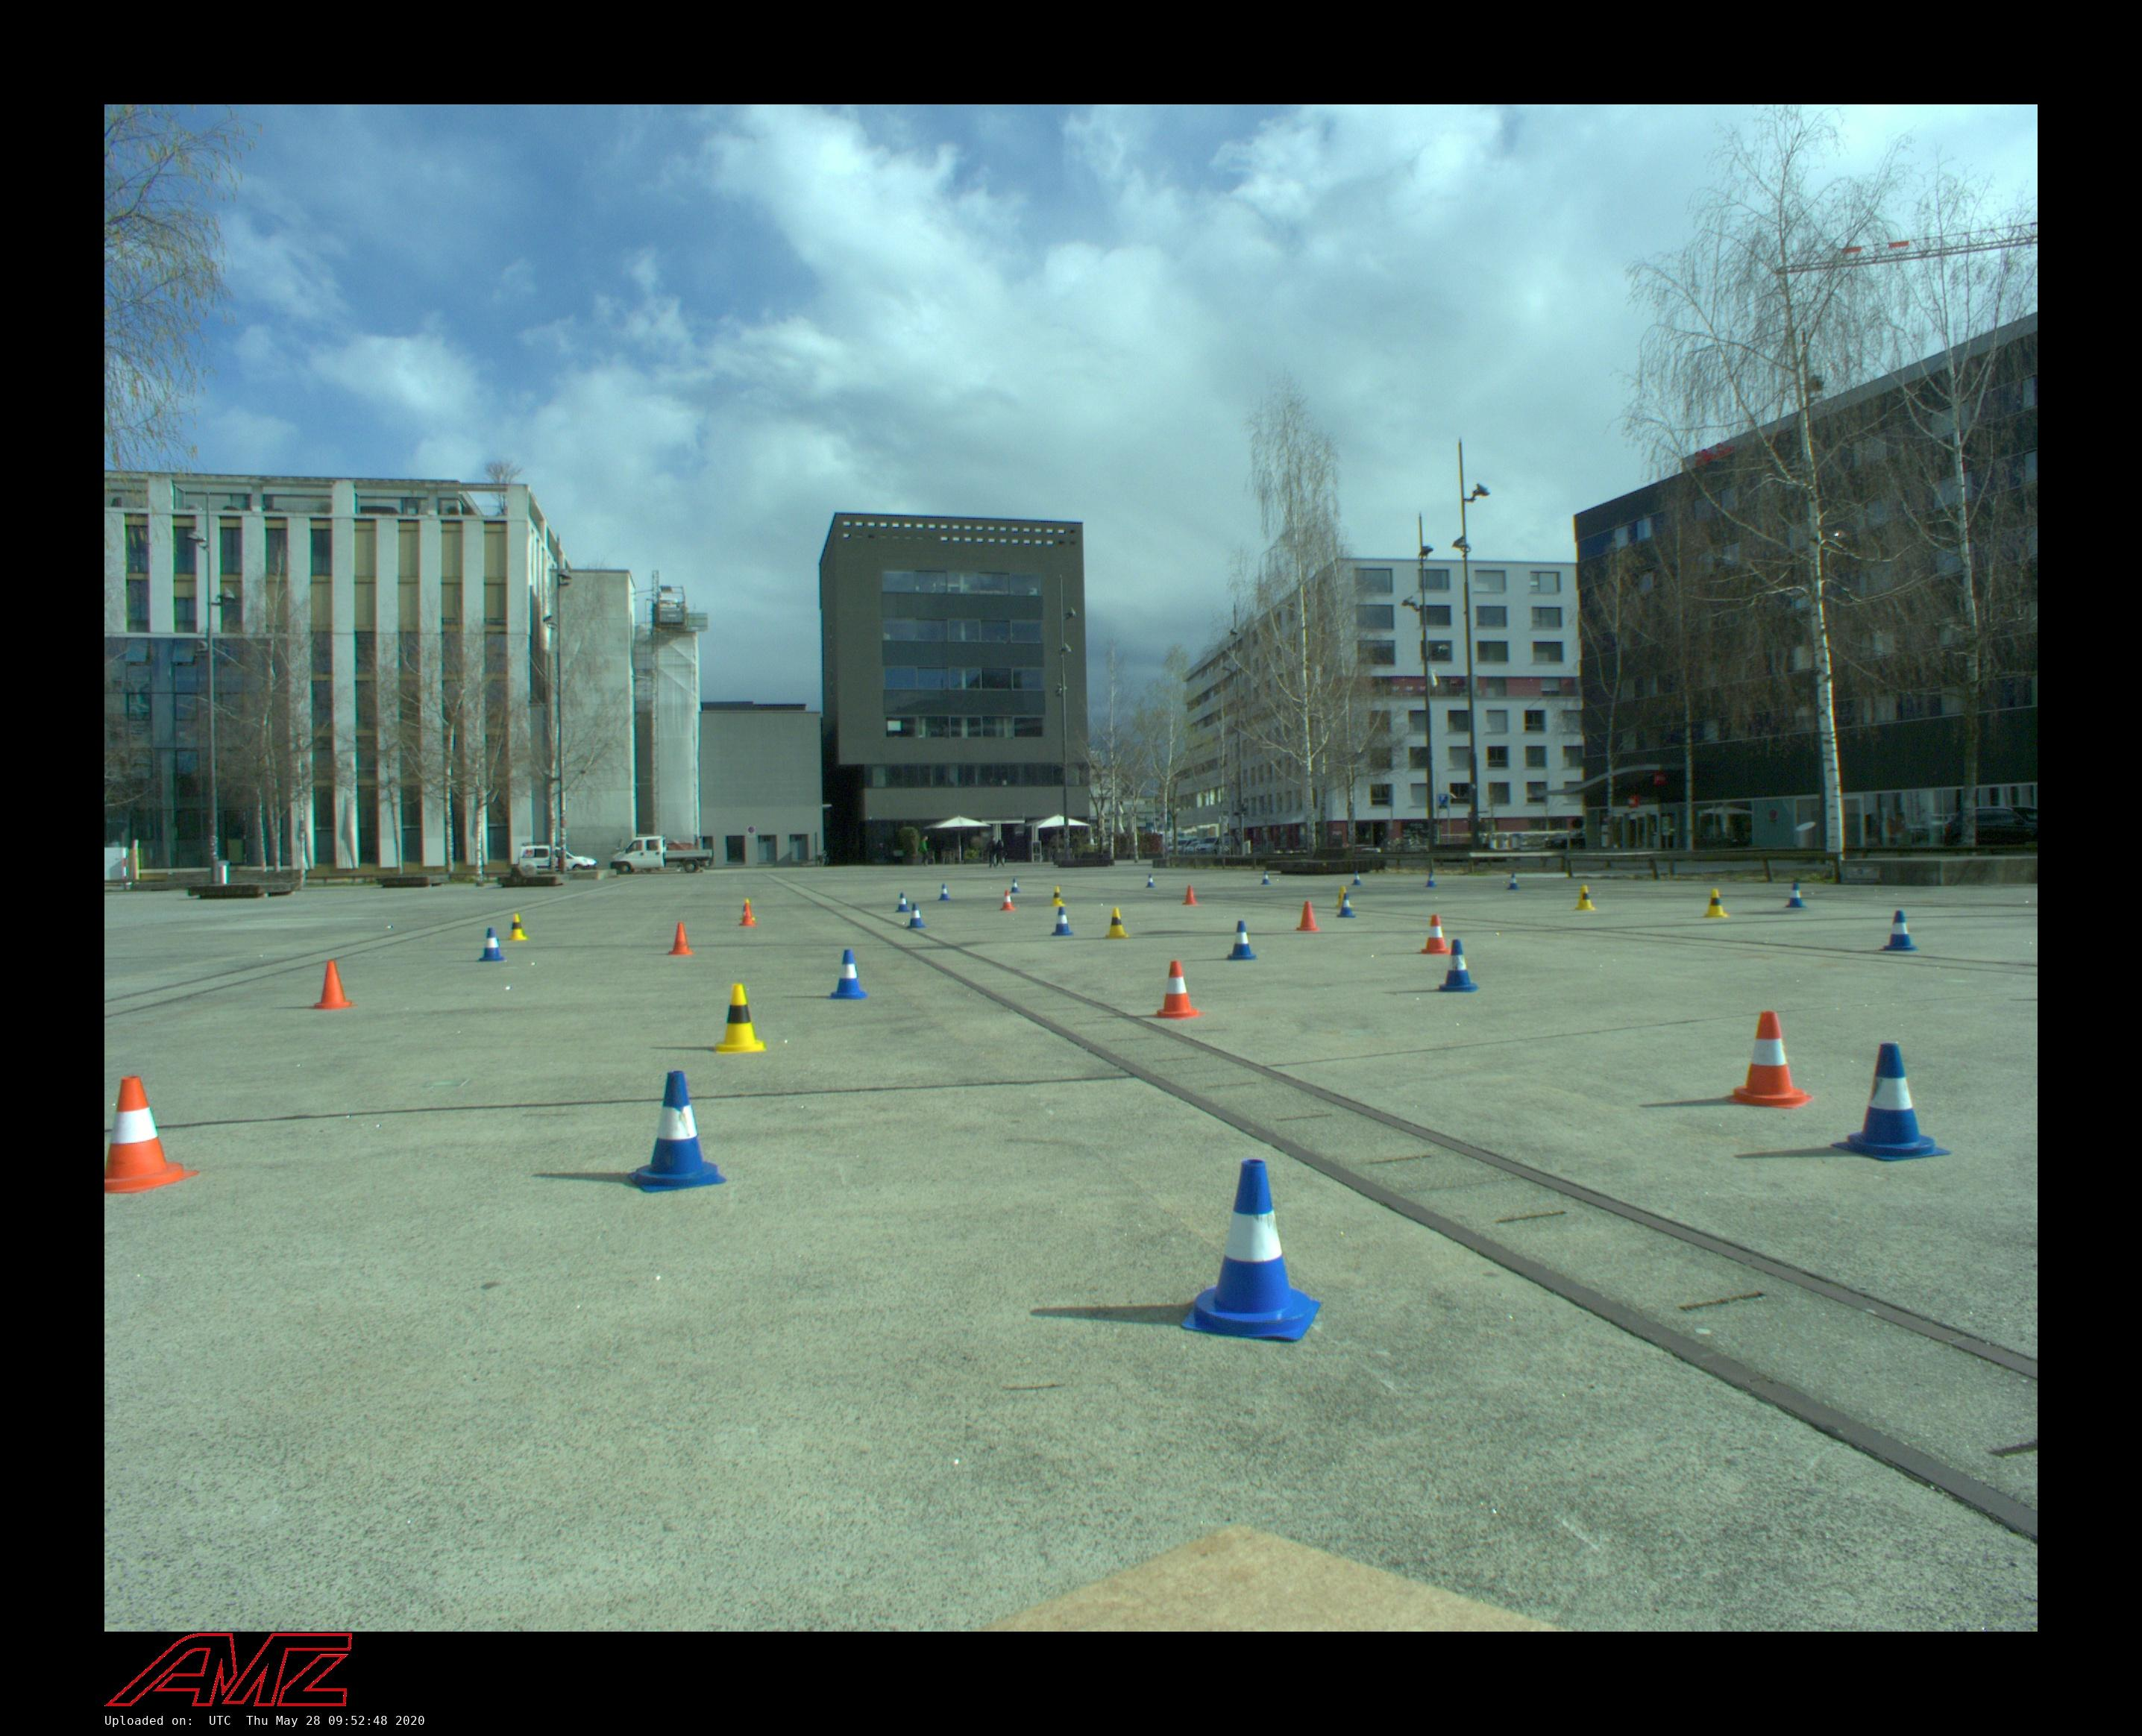blue_cone: (1181, 1159, 1322, 1341), (1831, 1043, 1950, 1162), (629, 1070, 727, 1192), (1436, 939, 1479, 993), (828, 949, 868, 1000), (1881, 909, 1919, 952), (1225, 920, 1258, 960), (477, 928, 506, 962), (1051, 907, 1073, 936), (1783, 882, 1807, 908), (906, 903, 926, 928), (1337, 893, 1356, 917), (895, 893, 911, 912), (938, 884, 952, 901), (1507, 873, 1519, 890), (1009, 878, 1021, 893), (1426, 872, 1436, 887), (1261, 871, 1272, 884), (1351, 871, 1361, 885), (1146, 874, 1155, 887)
orange_cone: (104, 1077, 200, 1194), (1725, 1010, 1815, 1109), (1153, 960, 1205, 1019), (310, 960, 358, 1009), (1419, 914, 1454, 955), (666, 922, 694, 955), (1296, 901, 1319, 931), (738, 904, 758, 926), (999, 890, 1016, 911), (1183, 885, 1198, 905)
yellow_cone: (712, 983, 766, 1054), (1703, 888, 1729, 918), (1104, 908, 1129, 939), (1573, 884, 1597, 911), (507, 913, 529, 940), (1334, 885, 1353, 908), (739, 899, 757, 921), (1049, 885, 1066, 906)
